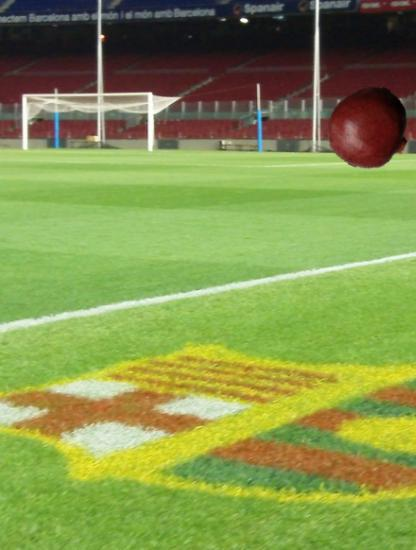Pomegranate: (327, 85, 412, 170)
